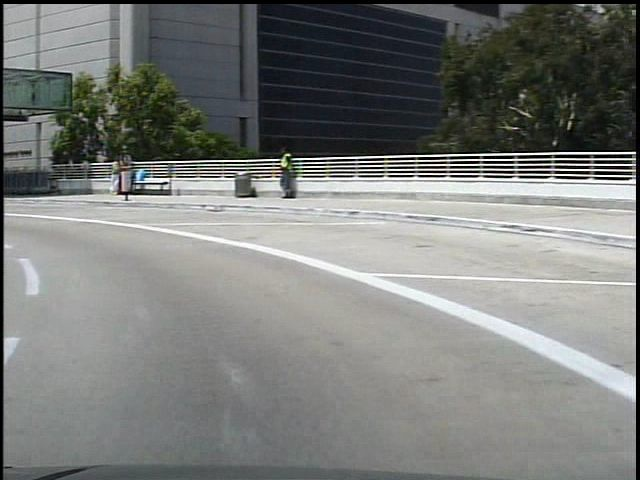person: (269, 143, 291, 201)
